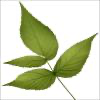Raspberry leaf: (18, 1, 59, 61), (53, 33, 98, 78), (2, 67, 56, 91), (4, 55, 49, 68)
